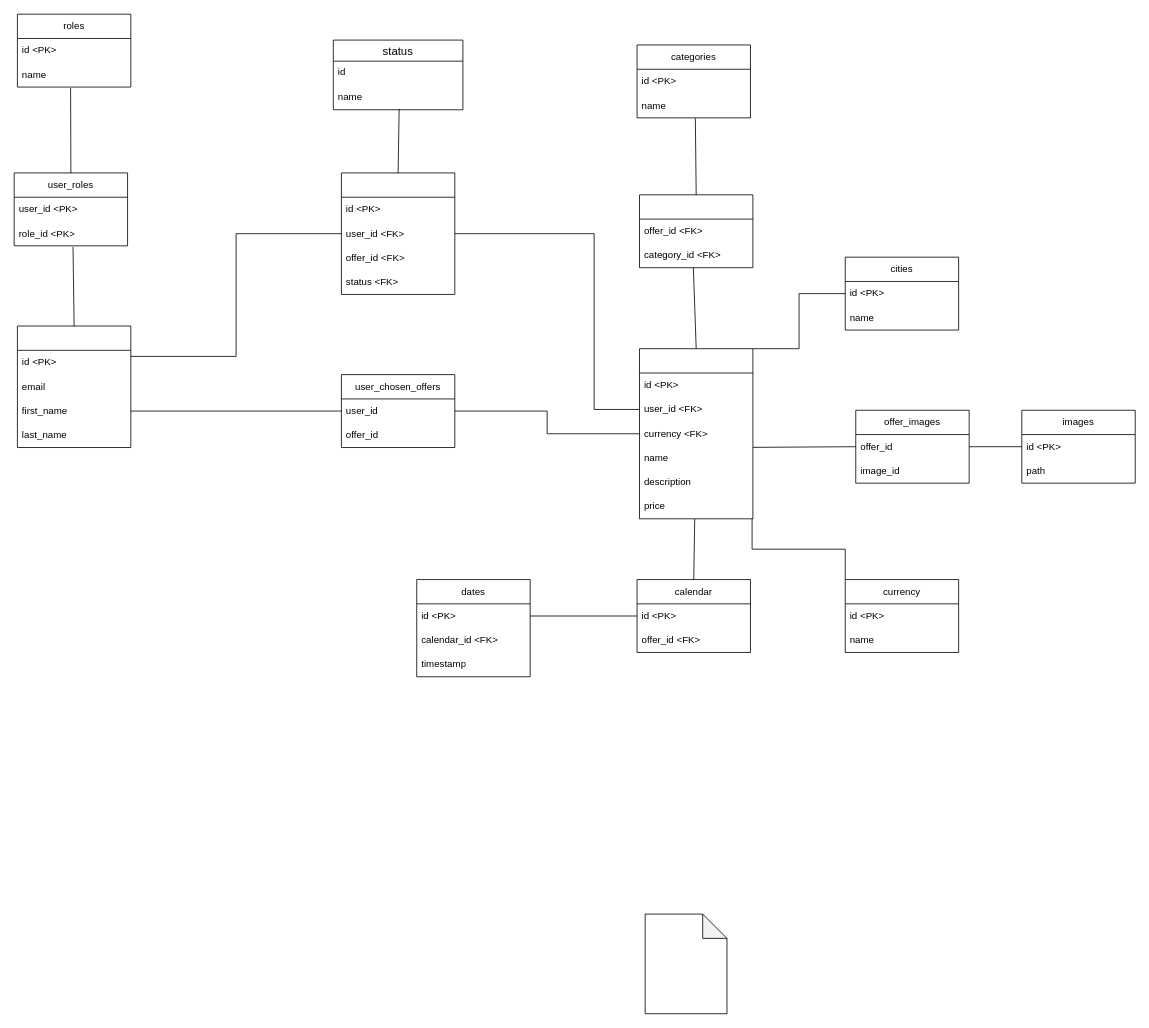
Image size: 1149x1028. Some labels were removed from this diagram. Each missing label, with the box of its shape:
everyday remve earliest date and add newer: (644, 913, 727, 1014)
offer_categories: (639, 194, 753, 268)
offers: (639, 348, 753, 519)
request: (341, 172, 455, 294)
users: (17, 325, 131, 448)
